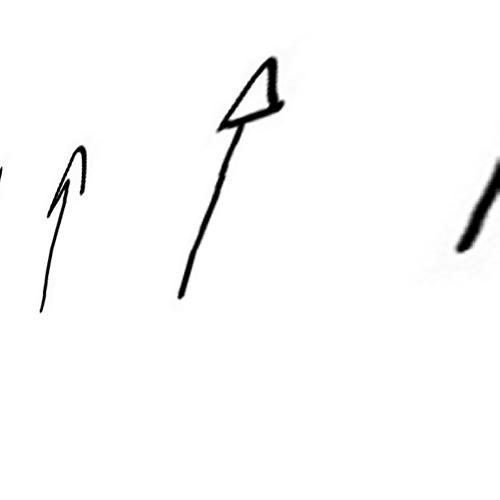arrow: (177, 55, 284, 291), (36, 145, 91, 313), (451, 158, 500, 251)
